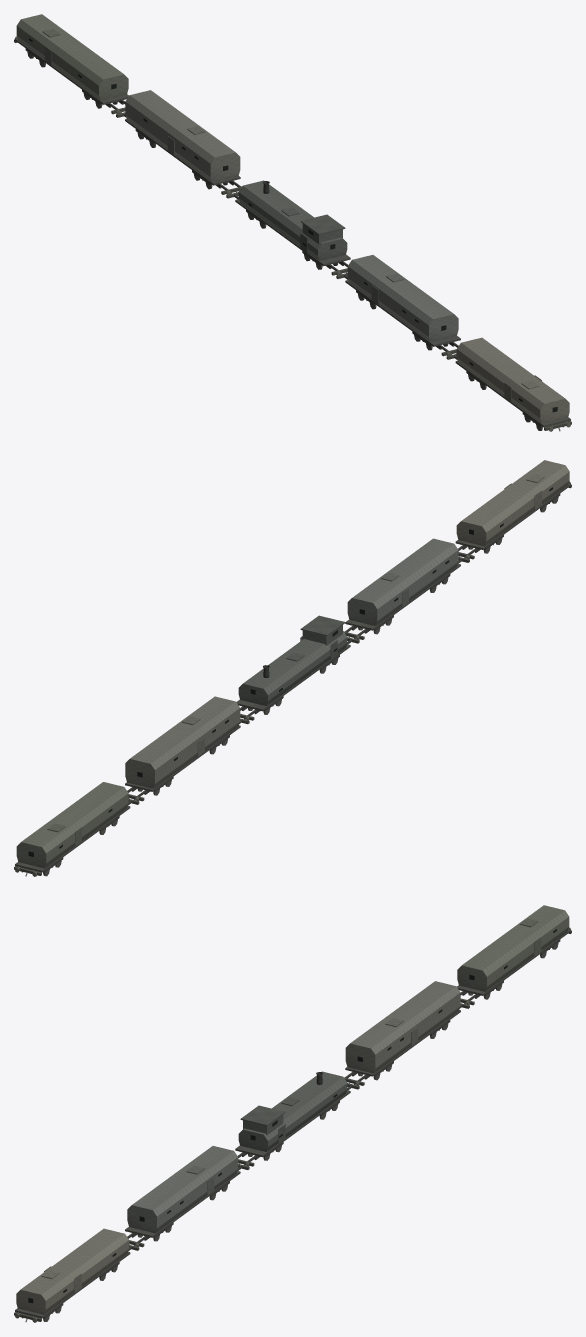
File: m01_panzerzug_visual_lod2.glb
3 renders of one model, top to bottom at view 1: azimuth 30°, elevation 25°; view 2: azimuth 150°, elevation 25°; view 3: azimuth 330°, elevation 25°, orthographic.
Parts seen in each view (by area): view 1: armoured_plates, chassis_rims; view 2: armoured_plates, chassis_rims; view 3: armoured_plates, chassis_rims.
Boxes of the visible parts, box(x1,y1,x2,y2) form: armoured_plates: box(15, 14, 570, 427); chassis_rims: box(14, 36, 571, 431); armoured_plates: box(15, 460, 570, 872); chassis_rims: box(14, 481, 571, 876); armoured_plates: box(15, 905, 570, 1318); chassis_rims: box(14, 927, 571, 1322).
Size of the model in its own units: 3.08 by 3.88 by 92.22.
Materials: 3 (2 with a texture image).
